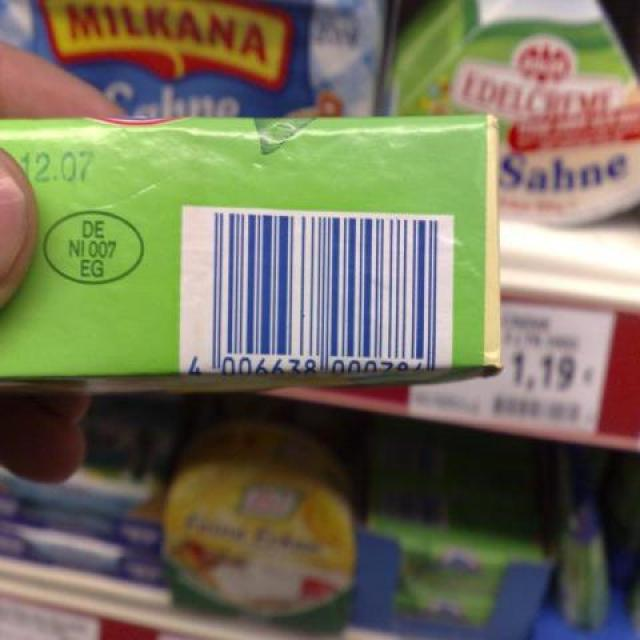Barcode: (183, 207, 454, 392)
